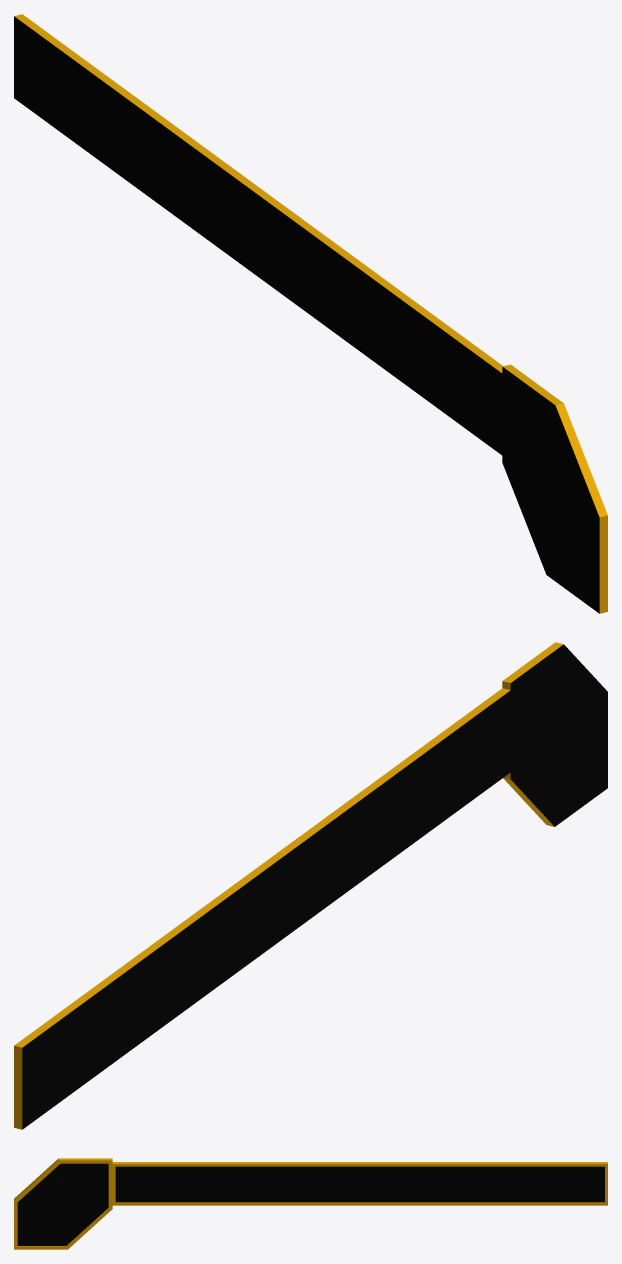
File: NameFix.fbx
3 views of the same model, one above another, from view 1: azimuth 30°, elevation 25°; view 2: azimuth 150°, elevation 25°; view 3: azimuth 270°, elevation 25° (orthographic). The views are drawn at different scales.
Visible parts, largest first — view 1: LeaderName, LeaderCost; view 2: LeaderName, LeaderCost; view 3: LeaderName, LeaderCost.
Boxes of the visible parts, bbox=[...] form: LeaderName: bbox=[14, 14, 502, 455]; LeaderCost: bbox=[502, 364, 607, 613]; LeaderName: bbox=[14, 688, 510, 1129]; LeaderCost: bbox=[502, 642, 607, 826]; LeaderName: bbox=[112, 1162, 607, 1205]; LeaderCost: bbox=[14, 1158, 112, 1249].
Bounding box in the file's own units: 1 × 20.1 × 121.
